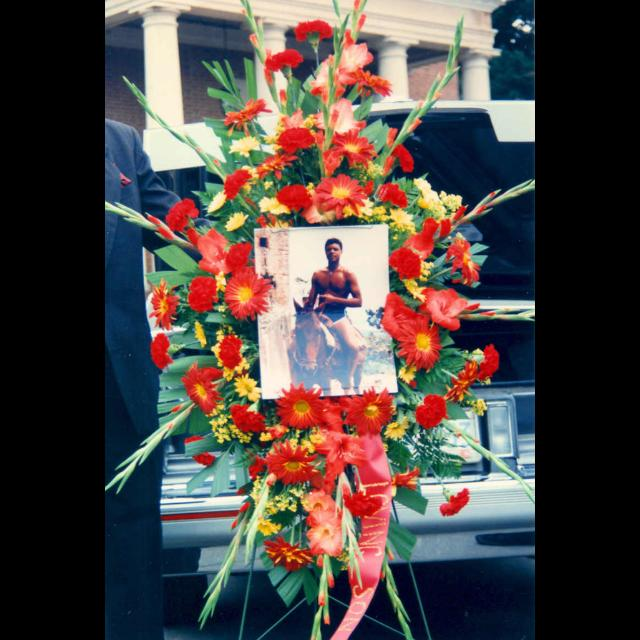Flower: (149, 0, 503, 628), (222, 263, 272, 313), (264, 49, 306, 77), (438, 487, 472, 518), (294, 18, 336, 42)
